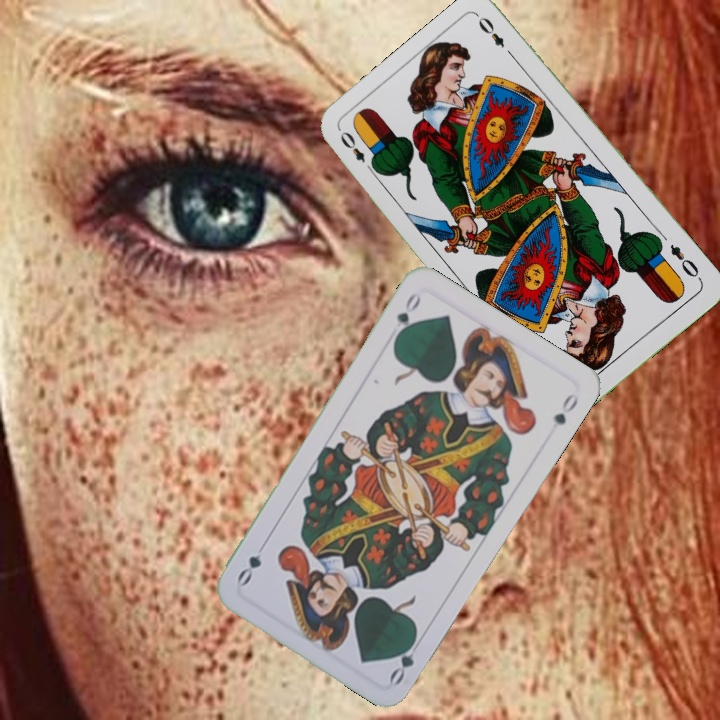EO: (336, 127, 379, 177), (665, 240, 705, 283)
GO: (385, 630, 426, 688), (390, 289, 424, 344)
